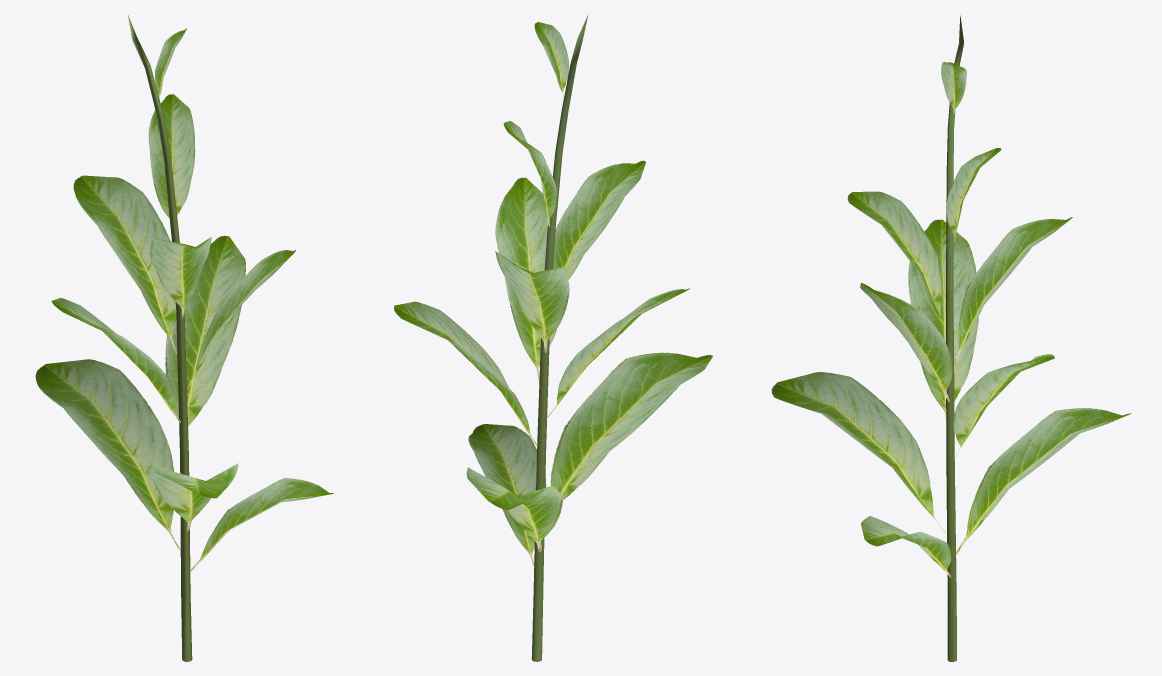
The model's file is SM_Plant_16.fbx.
3 renders of one model, left to right at view 1: azimuth 30°, elevation 25°; view 2: azimuth 150°, elevation 25°; view 3: azimuth 270°, elevation 25°, orthographic. The views are drawn at different scales.
Visible parts, largest first — view 1: SM_Plant_16; view 2: SM_Plant_16; view 3: SM_Plant_16.
Boxes of the visible parts, x1,y1,x2,y2 form: SM_Plant_16: (35,15,333,661); SM_Plant_16: (394,15,712,661); SM_Plant_16: (771,15,1131,661).
Size of the model in its own units: 23.19 by 30.73 by 52.72.
Materials: 2 (2 with a texture image).
